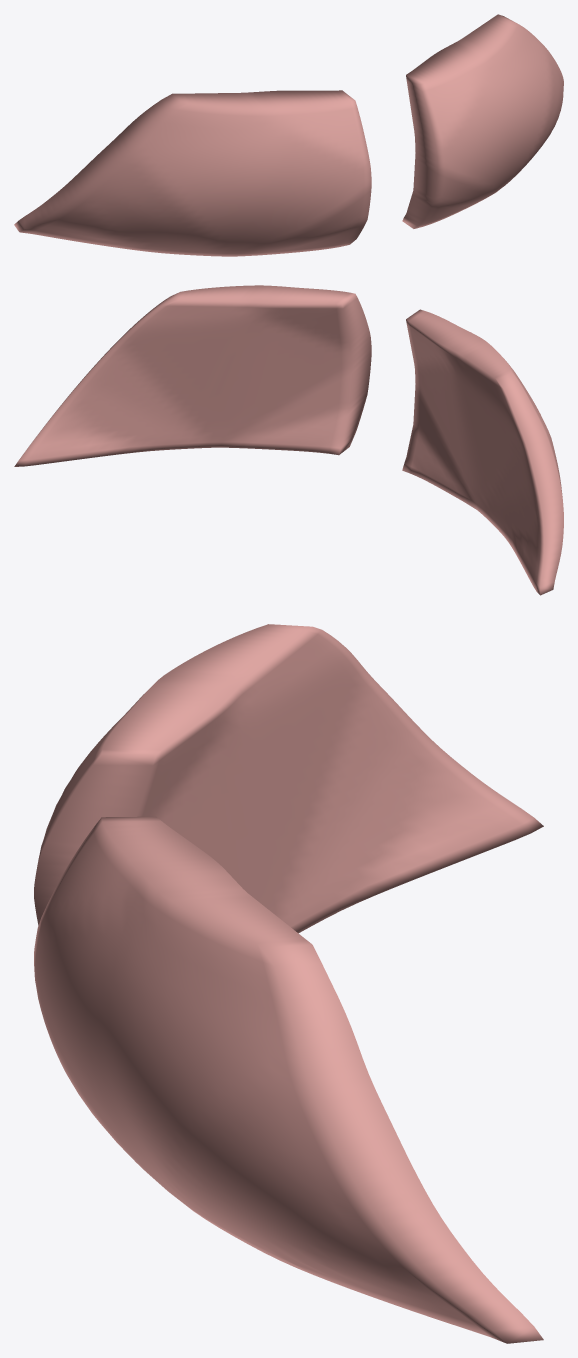
File: mentalis_lod1.glb
3 renders of one model, top to bottom at view 1: azimuth 30°, elevation 25°; view 2: azimuth 150°, elevation 25°; view 3: azimuth 270°, elevation 25°, orthographic. The views are drawn at different scales.
Visible parts, largest first — view 1: mentalis_R_lod1, mentalis_L_lod1; view 2: mentalis_L_lod1, mentalis_R_lod1; view 3: mentalis_L_lod1, mentalis_R_lod1.
Boxes of the visible parts, x1,y1,x2,y2 form: mentalis_R_lod1: (14, 90, 371, 256); mentalis_L_lod1: (402, 14, 563, 228); mentalis_L_lod1: (14, 285, 371, 466); mentalis_R_lod1: (402, 309, 563, 595); mentalis_L_lod1: (34, 816, 543, 1343); mentalis_R_lod1: (34, 624, 543, 933).
Bounding box in the file's own units: 0.0301 × 0.008 × 0.0124.
